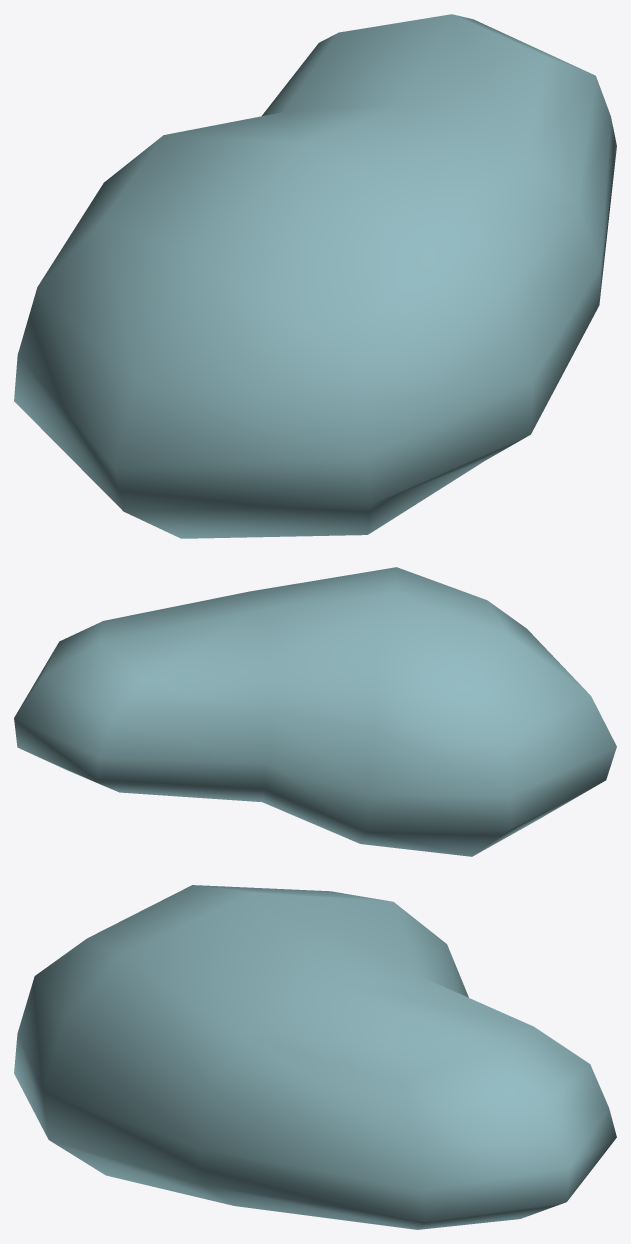
File: dragonCube_008.fbx
The picture shows the model from 3 angles, top to bottom: view 1: azimuth 30°, elevation 25°; view 2: azimuth 150°, elevation 25°; view 3: azimuth 270°, elevation 25°; orthographic projection. The views are drawn at different scales.
Visible parts, largest first — view 1: Cube.008; view 2: Cube.008; view 3: Cube.008.
Boxes of the visible parts, x1,y1,x2,y2 form: Cube.008: (14,14,616,538); Cube.008: (14,567,616,856); Cube.008: (14,885,616,1229).
Size of the model in its own units: 407 by 187 by 366.
